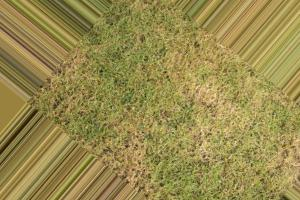patch: (112, 148, 145, 174), (198, 83, 220, 105), (281, 141, 297, 171)
